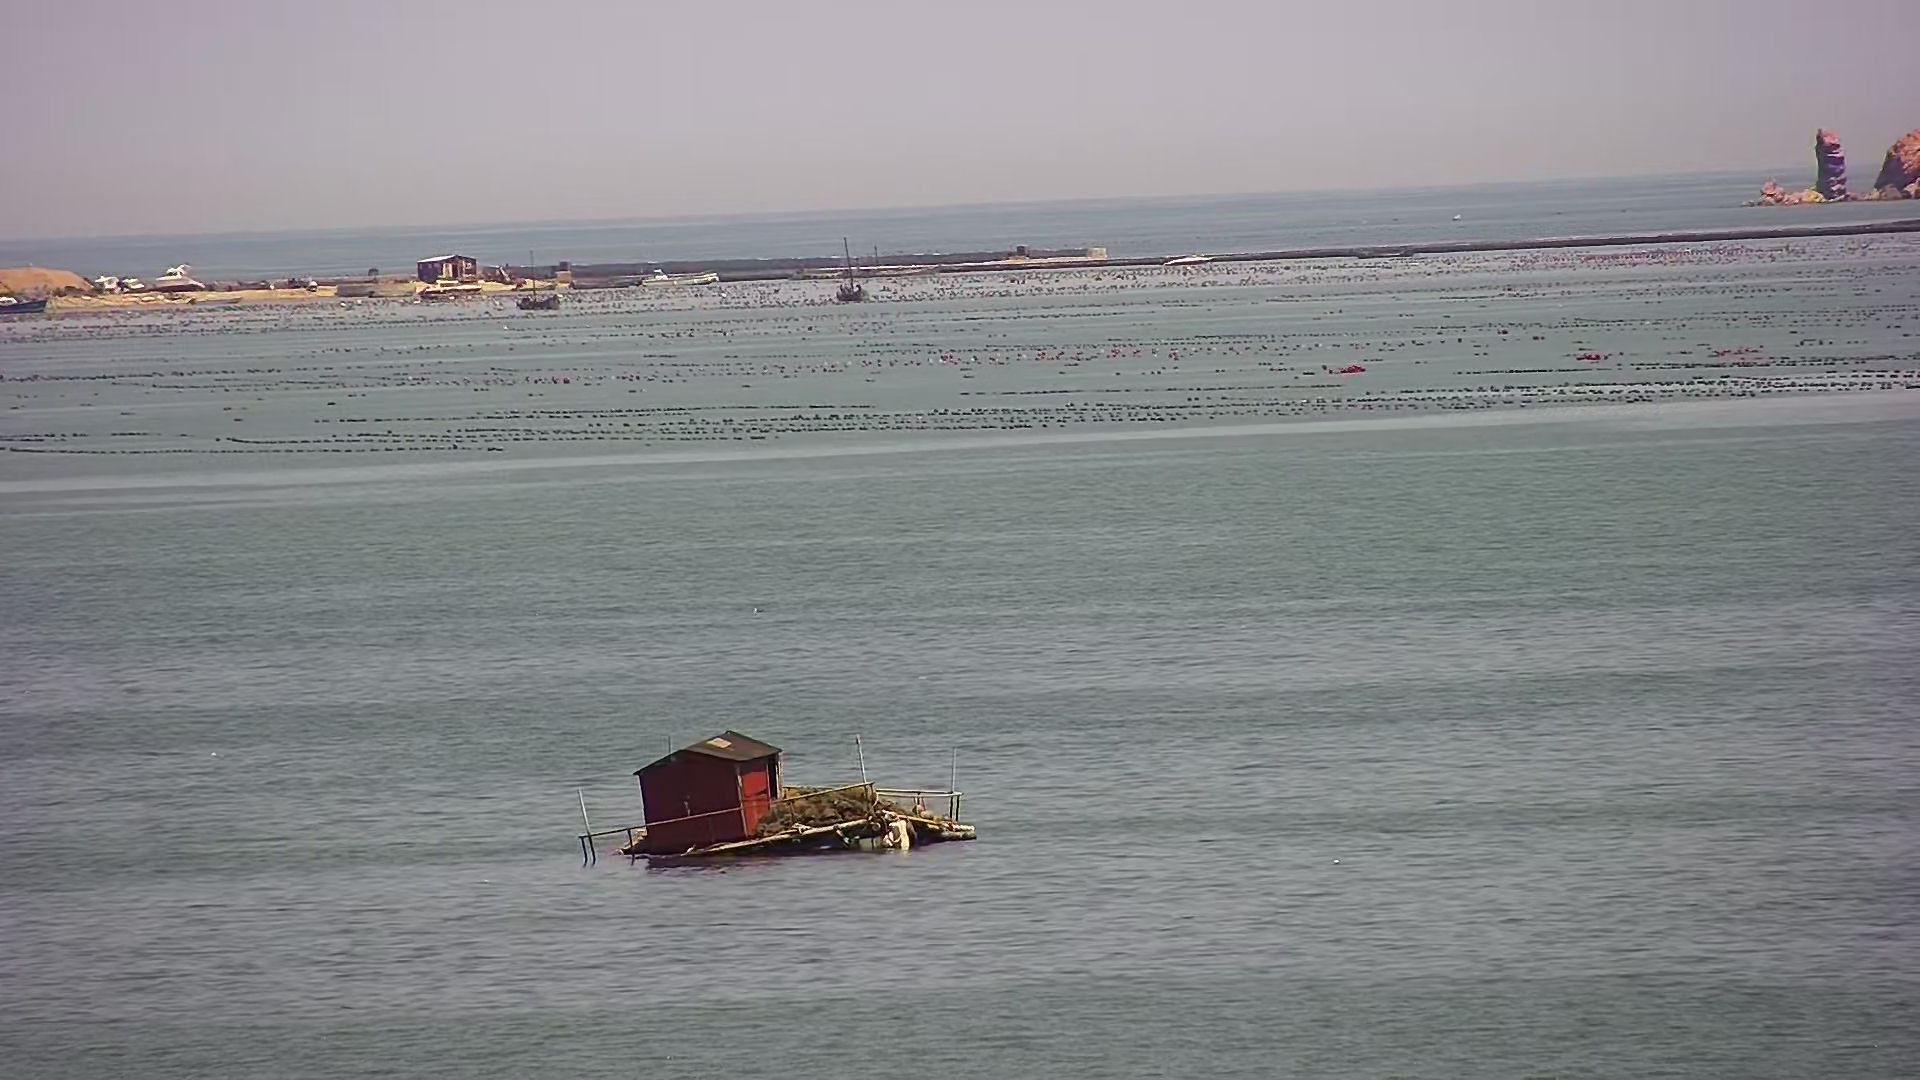boat: (828, 229, 874, 311)
platform: (578, 727, 980, 869)
rock: (1737, 123, 1920, 208)
